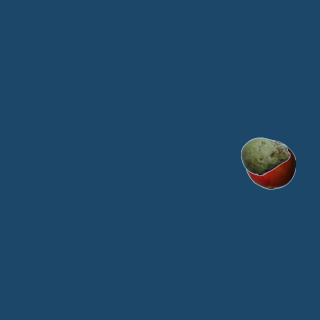Apple Braeburn: (245, 139, 295, 189)
Pear Stone: (240, 131, 290, 181)
